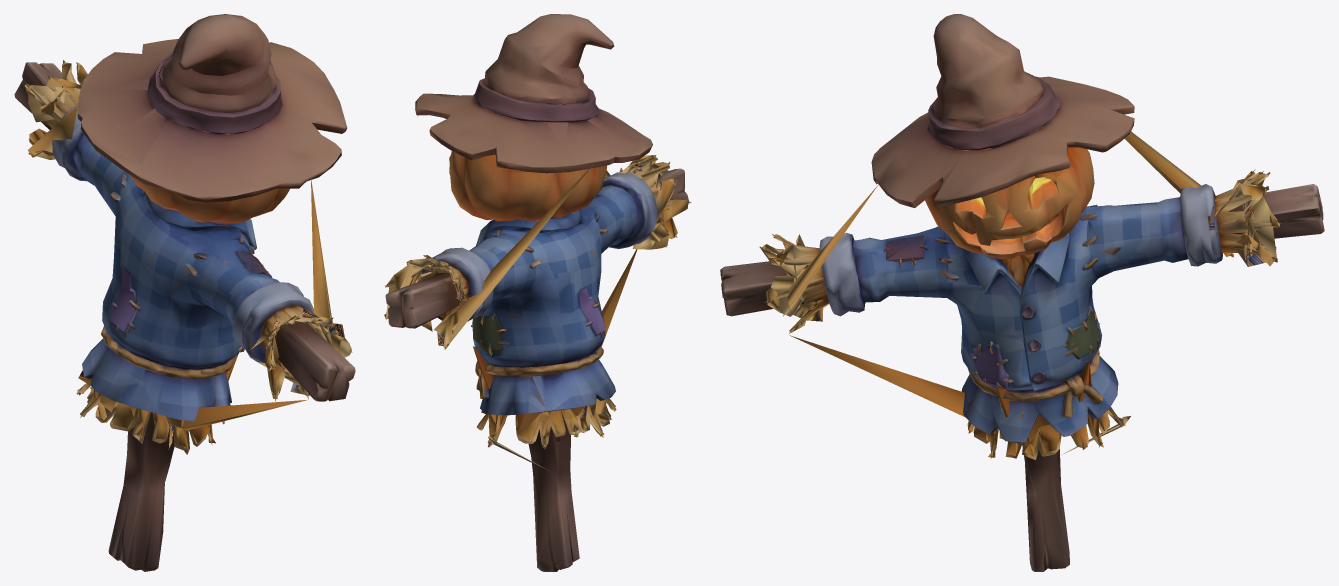
Rendered from L5_Scarecrow_LOD1.fbx.
The picture shows the model from 3 angles, left to right: view 1: azimuth 30°, elevation 25°; view 2: azimuth 150°, elevation 25°; view 3: azimuth 270°, elevation 25°; orthographic projection. The views are drawn at different scales.
Visible parts, largest first — view 1: L5_Scarecrow_LOD1; view 2: L5_Scarecrow_LOD1; view 3: L5_Scarecrow_LOD1.
Boxes of the visible parts, x1,y1,x2,y2 form: L5_Scarecrow_LOD1: (14, 14, 355, 571); L5_Scarecrow_LOD1: (384, 14, 691, 571); L5_Scarecrow_LOD1: (720, 14, 1324, 571).
Bounding box in the file's own units: 0.9393 × 2.2 × 2.14.
1 material, 1 textured.
